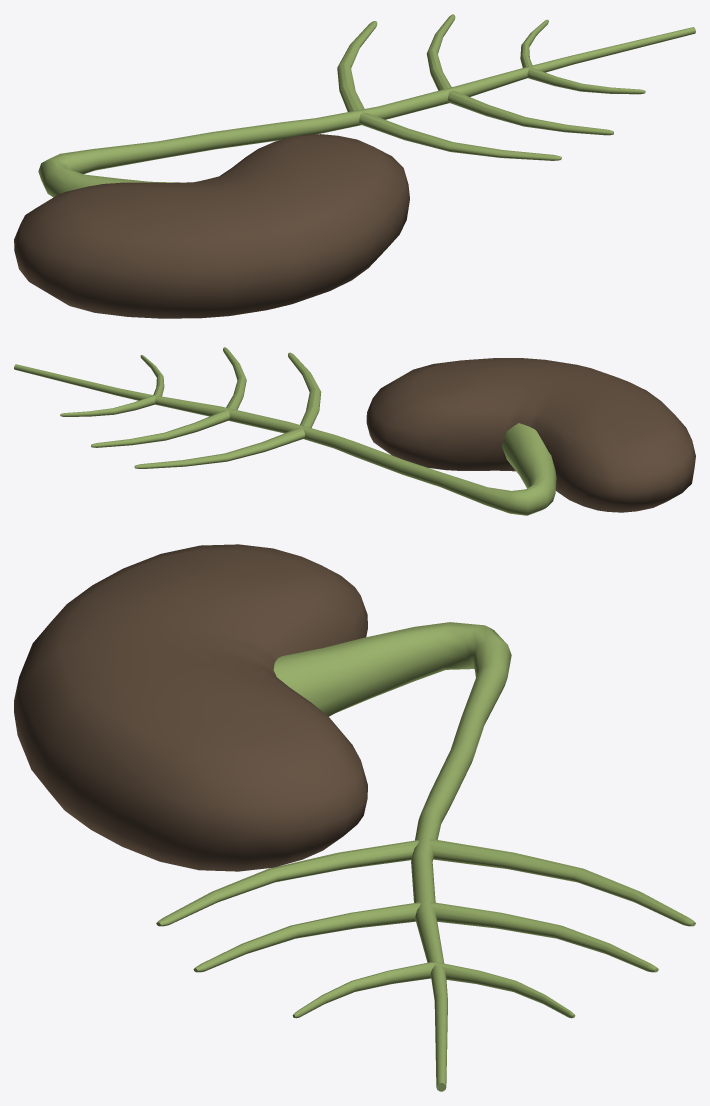
Rendered from Seedling.fbx.
3 renders of one model, top to bottom at view 1: azimuth 30°, elevation 25°; view 2: azimuth 150°, elevation 25°; view 3: azimuth 270°, elevation 25°, orthographic. The views are drawn at different scales.
Visible parts, largest first — view 1: Seed, Stem, pCylinder5, pCylinder2, pCylinder4, Roots, pCylinder3; view 2: Seed, Stem, pCylinder4, pCylinder3, pCylinder5, pCylinder6, pCylinder2, Roots; view 3: Seed, Stem, pCylinder4, pCylinder5, pCylinder3, pCylinder2, Roots, pCylinder6.
Part boxes in pixels (<box>): Seed: <box>14,134,409,318</box>; Stem: <box>38,27,695,197</box>; pCylinder5: <box>359,112,561,160</box>; pCylinder2: <box>448,90,613,135</box>; pCylinder4: <box>337,21,377,111</box>; Roots: <box>527,67,645,94</box>; pCylinder3: <box>426,14,455,90</box>; Seed: <box>366,358,695,512</box>; Stem: <box>14,364,556,515</box>; pCylinder4: <box>134,428,304,468</box>; pCylinder3: <box>91,410,229,447</box>; pCylinder5: <box>288,352,321,427</box>; pCylinder6: <box>60,395,156,416</box>; pCylinder2: <box>223,347,246,409</box>; Roots: <box>140,355,164,396</box>; Seed: <box>14,544,367,871</box>; Stem: <box>273,622,511,1091</box>; pCylinder4: <box>429,839,695,926</box>; pCylinder5: <box>156,840,419,926</box>; pCylinder3: <box>430,902,658,972</box>; pCylinder2: <box>193,902,420,972</box>; Roots: <box>292,962,433,1018</box>; pCylinder6: <box>434,962,575,1018</box>.
Bounding box in the file's own units: 0.9997 × 0.1341 × 0.5575.
